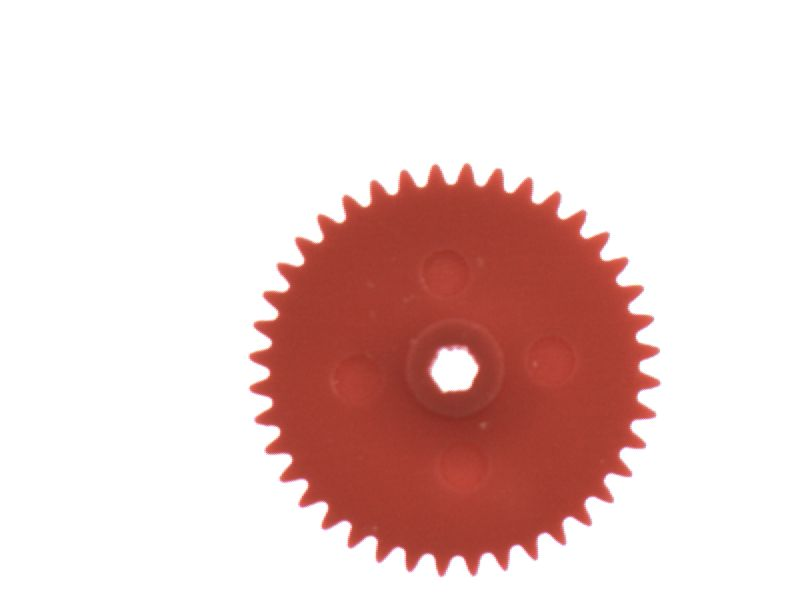good_product: (226, 142, 676, 590)
